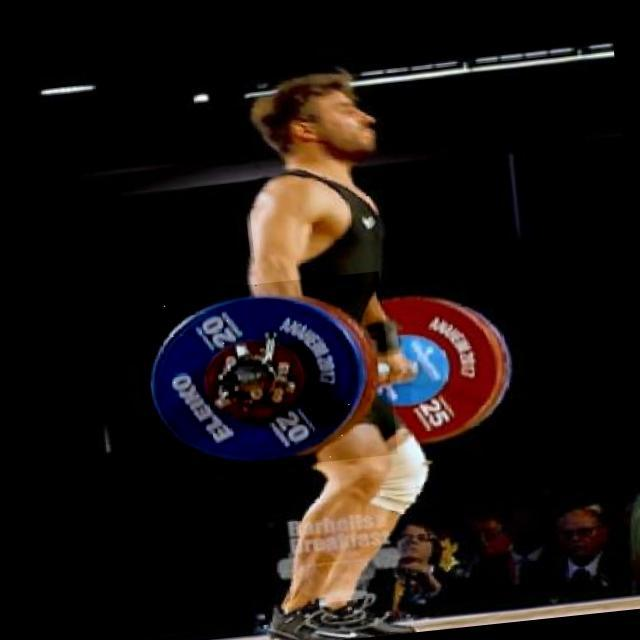barbell: (132, 272, 399, 481)
